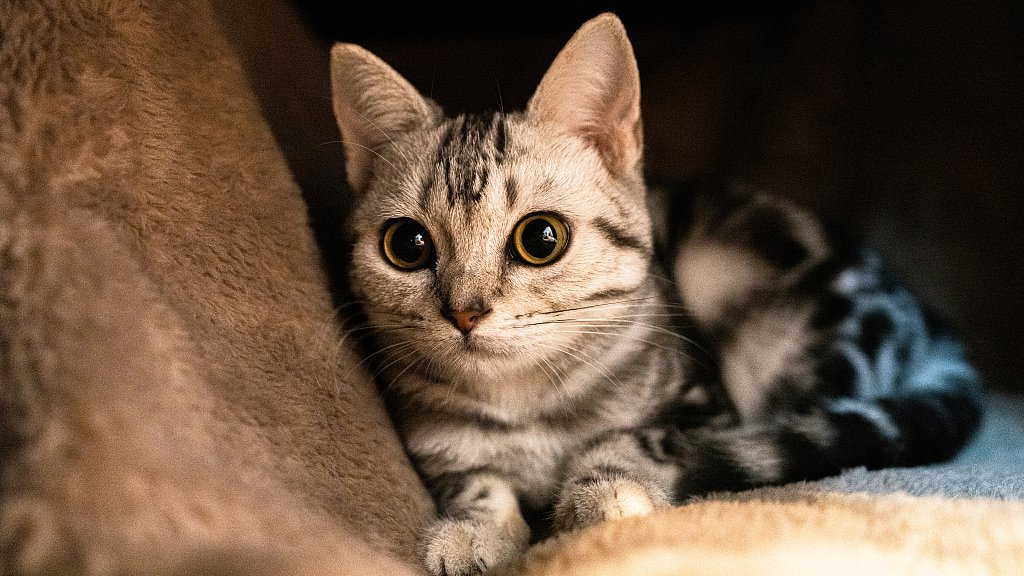cat: (331, 21, 960, 500)
